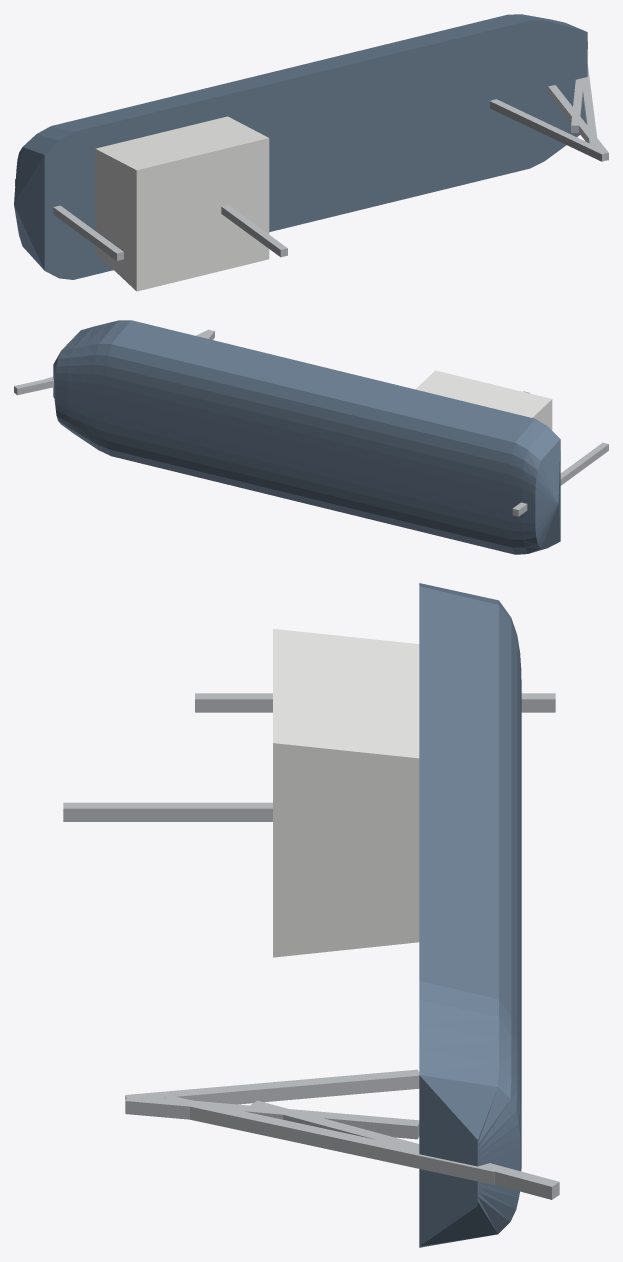
Rendered from loft-dredger.glb.
3 views of the same model, one above another, from view 1: azimuth 30°, elevation 25°; view 2: azimuth 150°, elevation 25°; view 3: azimuth 270°, elevation 25° (orthographic). The views are drawn at different scales.
Visible parts, largest first — view 1: dredger; view 2: dredger; view 3: dredger.
Boxes of the visible parts, x1,y1,x2,y2 form: dredger: (14, 14, 608, 291); dredger: (14, 320, 608, 554); dredger: (63, 583, 559, 1247).
Size of the model in its own units: 2.02 by 0.48 by 0.8254.
